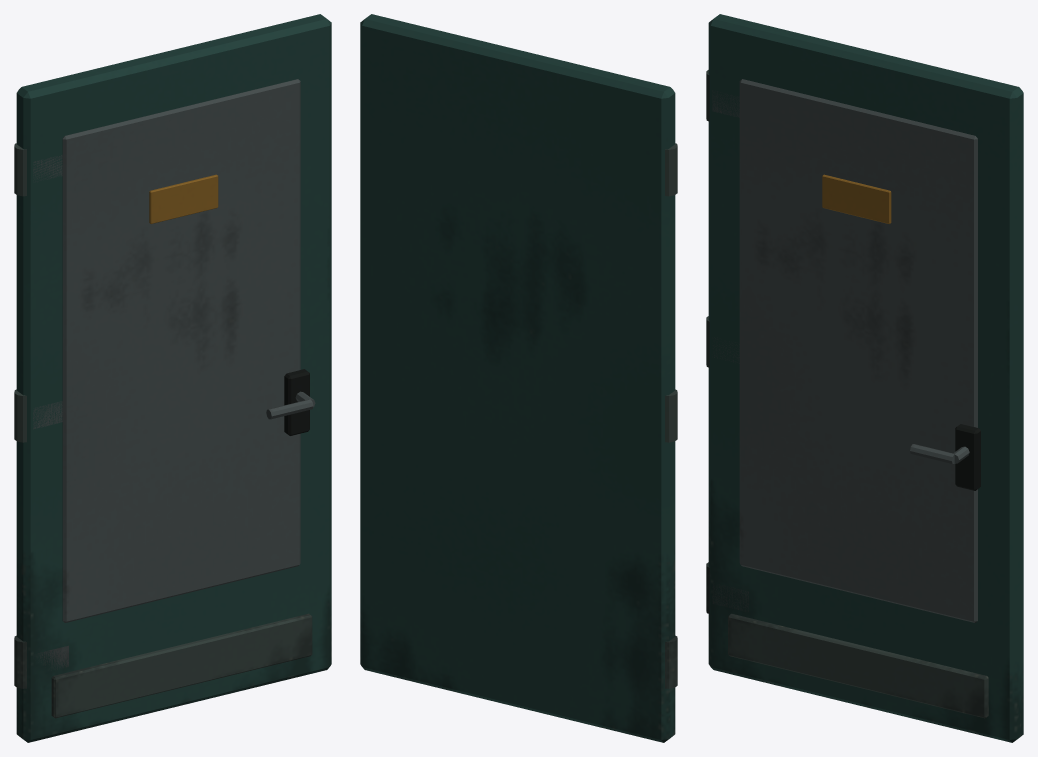
File: door_leaf.glb
3 renders of one model, left to right at view 1: azimuth 30°, elevation 25°; view 2: azimuth 150°, elevation 25°; view 3: azimuth 330°, elevation 25°, orthographic.
Visible parts, largest first — view 1: door_leaf; view 2: door_leaf; view 3: door_leaf.
Boxes of the visible parts, x1,y1,x2,y2 form: door_leaf: (14, 14, 331, 742); door_leaf: (360, 14, 677, 742); door_leaf: (706, 14, 1023, 742).
Size of what is drawn, in the model's own units: 1.2 by 2.38 by 0.218.
1 material, 1 textured.
